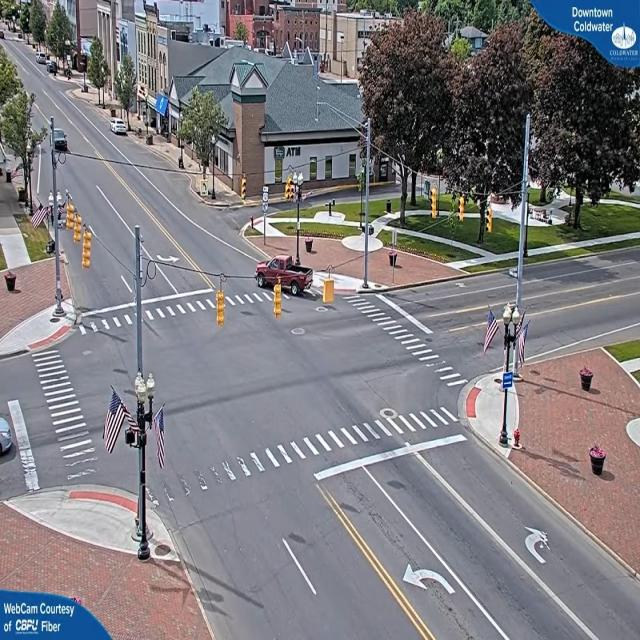car: (253, 253, 316, 301), (53, 130, 70, 154), (111, 120, 130, 138)
